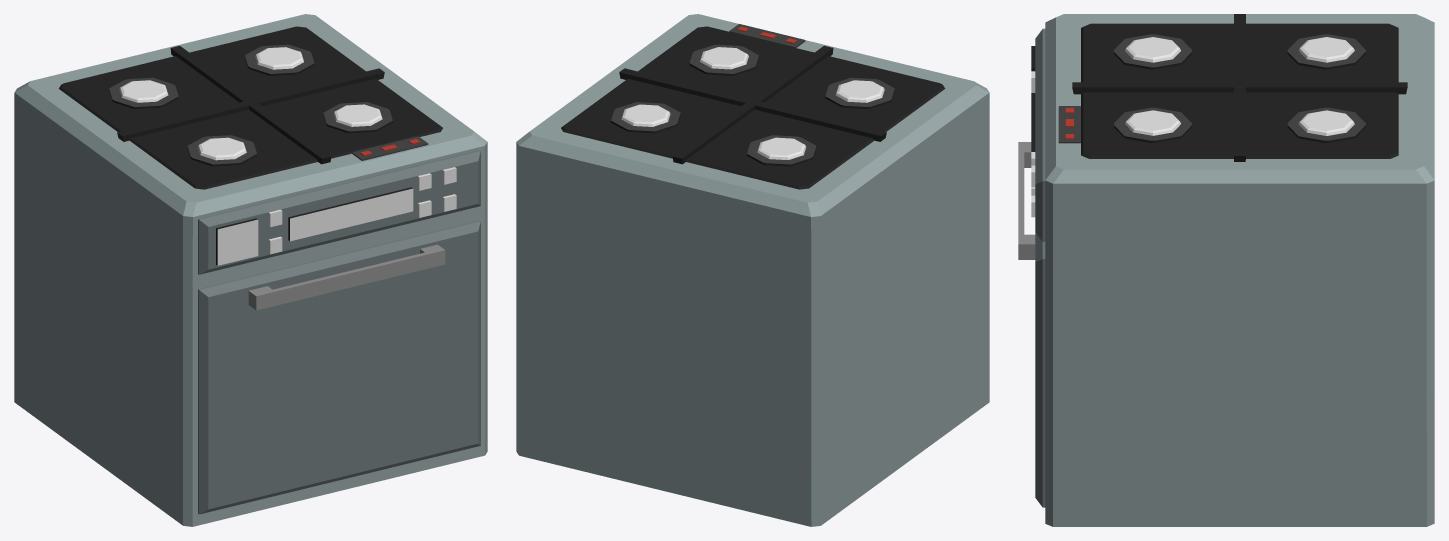
File: Oven.fbx
The picture shows the model from 3 angles, left to right: view 1: azimuth 30°, elevation 25°; view 2: azimuth 150°, elevation 25°; view 3: azimuth 270°, elevation 25°; orthographic projection. The views are drawn at different scales.
Visible parts, largest first — view 1: Oven; view 2: Oven; view 3: Oven.
Part boxes in pixels (x1,y1,x2,y2): Oven: [14, 14, 487, 526]; Oven: [516, 14, 989, 526]; Oven: [1018, 14, 1434, 526].
Bounding box in the file's own units: 1.5 × 1.53 × 1.6.
